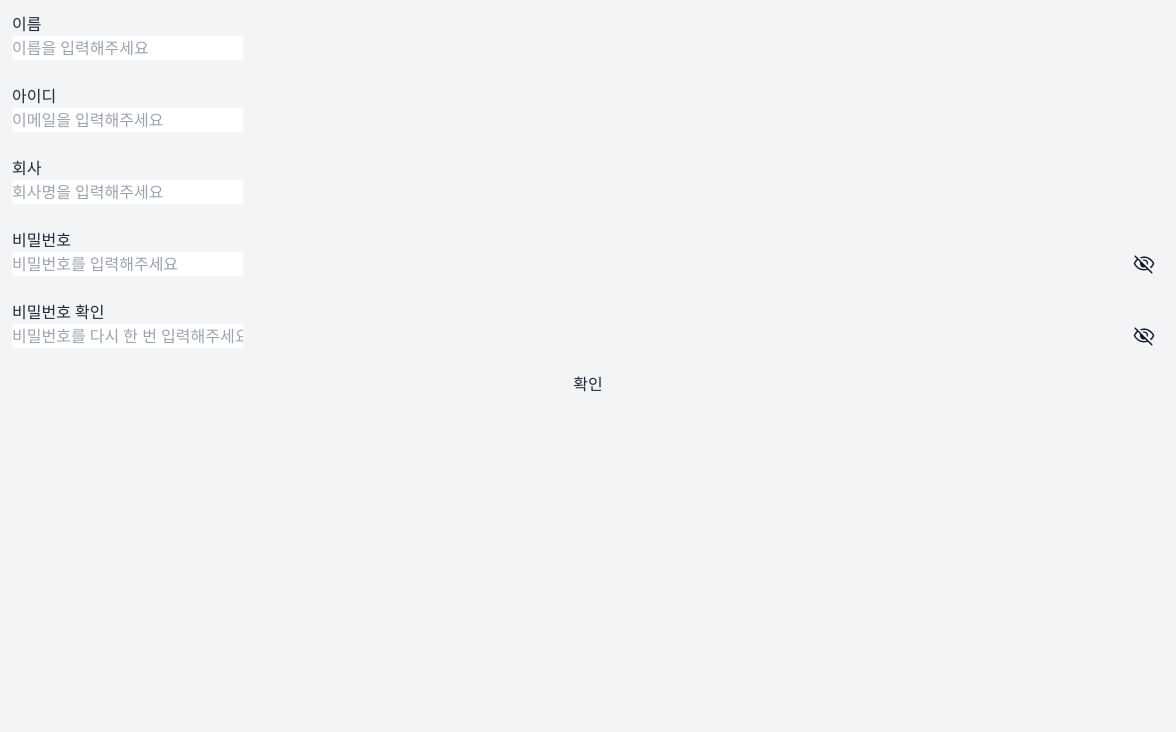
Test case: 회원가입 폼 › 유효성 검사 실패 › 이름 형식 테스트
In the field with placeholder "이름을 입력해주세요": x=128, y=48 [12,36,243,60], type "가"
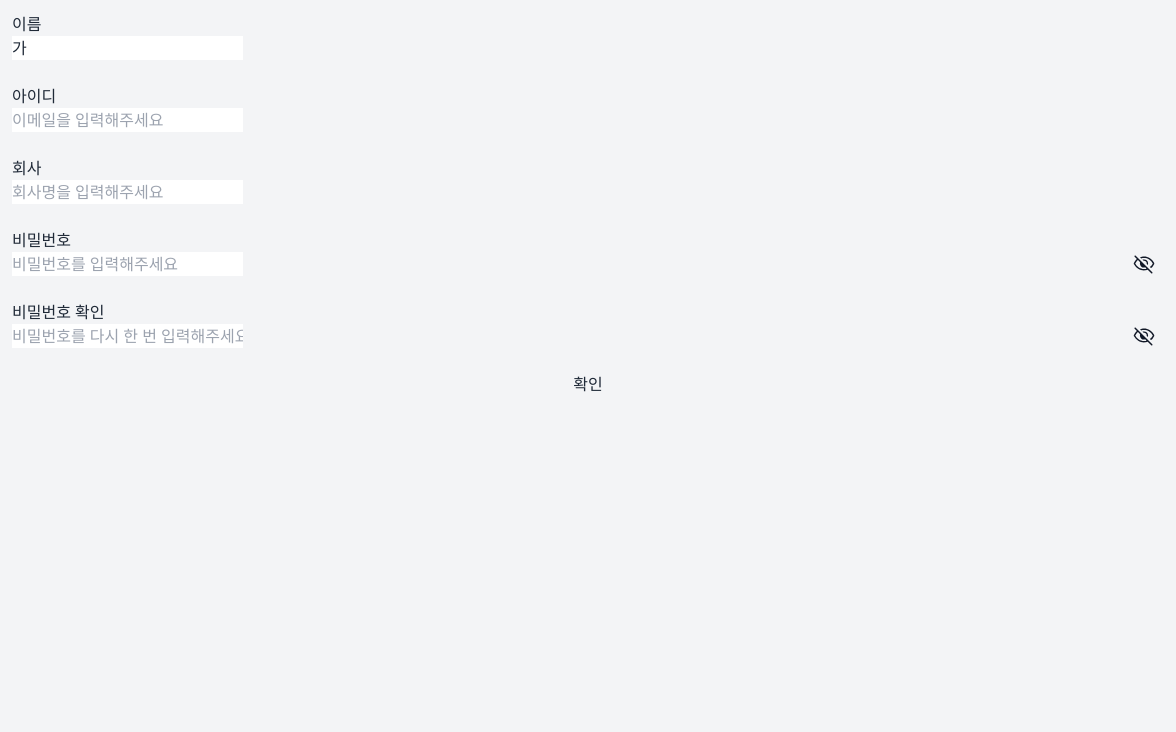
Submit the form from the button "확인", box [12,372,1164,396]
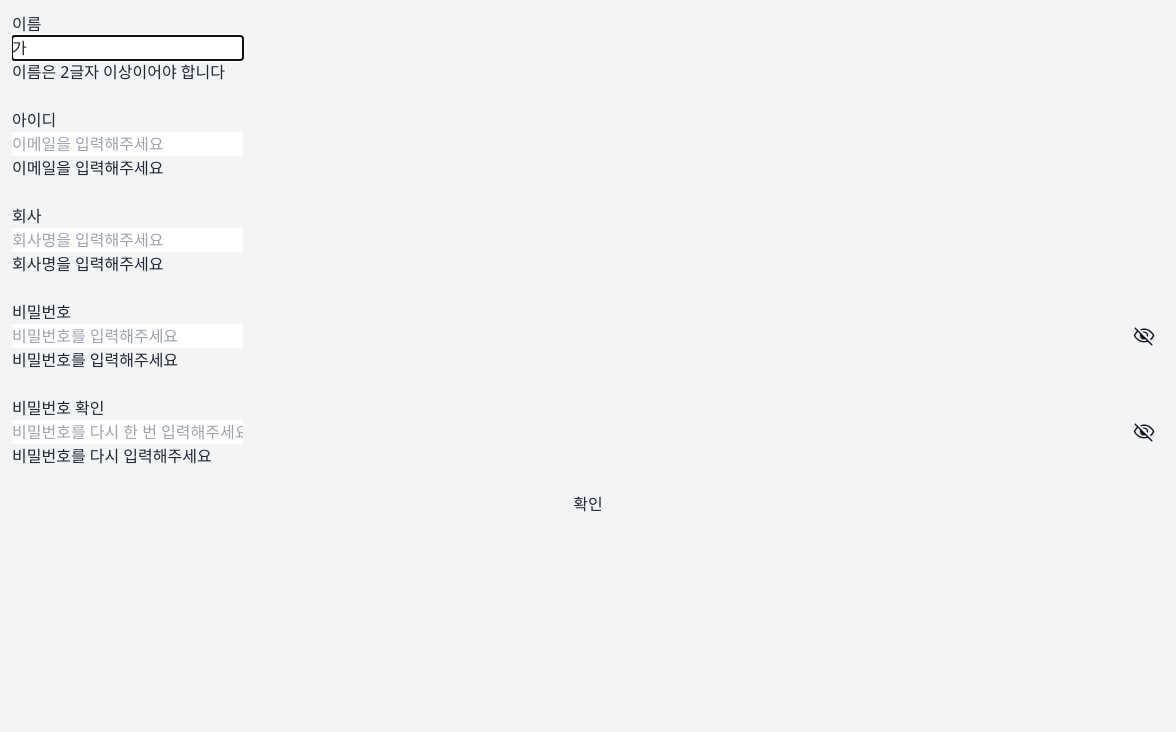
Result: the text "이름은 2글자 이상이어야 합니다" is shown at [12,61,225,83]
